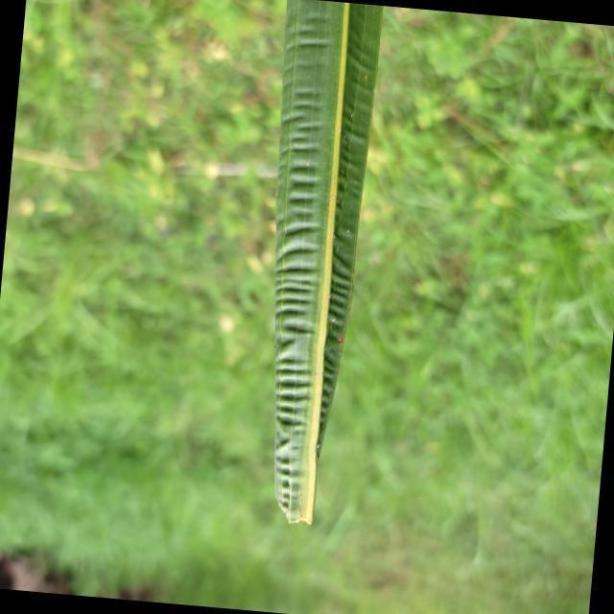Boron: (272, 0, 389, 543)
